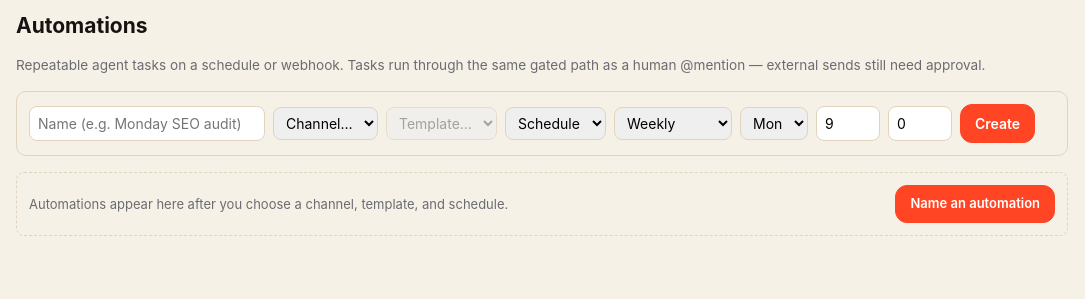
Test case: AutomationsPanel (#167 — Create button) › surfaces a server validation failure instead of swallowing it
The width and height of the screenshot is (1085, 299).
Type "Weekly audit" into the field with placeholder "Name (e.g. Monday SEO audit)".
click(147, 124); type("Weekly audit")  # box [29,106,265,142]
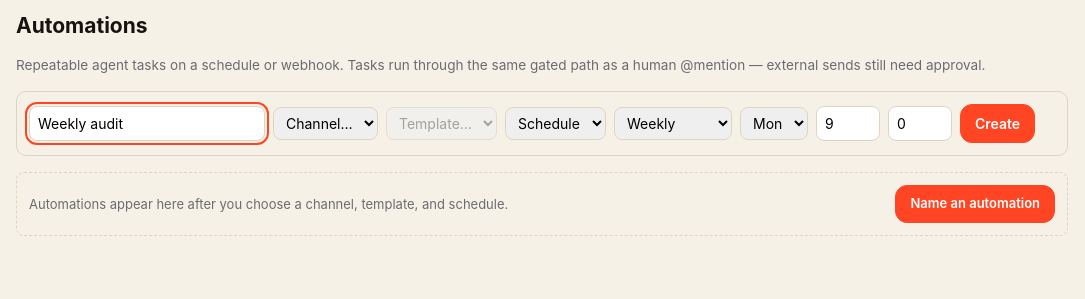
Select "#general" in the 1st dropdown at (326, 124), box [273,108,378,140]
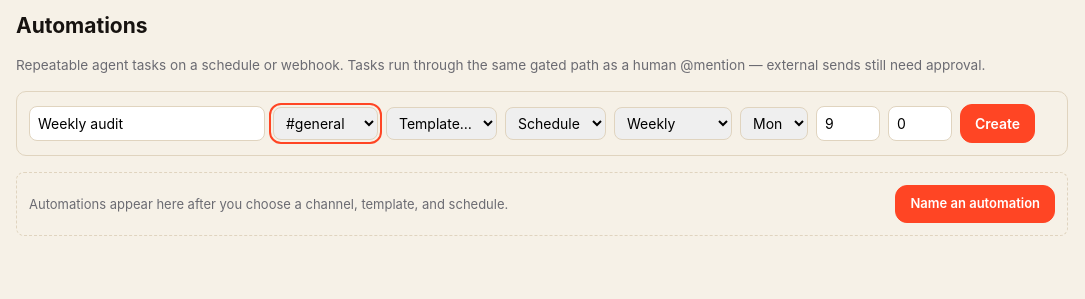
Select "SEO audit" in the 2nd dropdown at (442, 124), box [386,108,497,140]
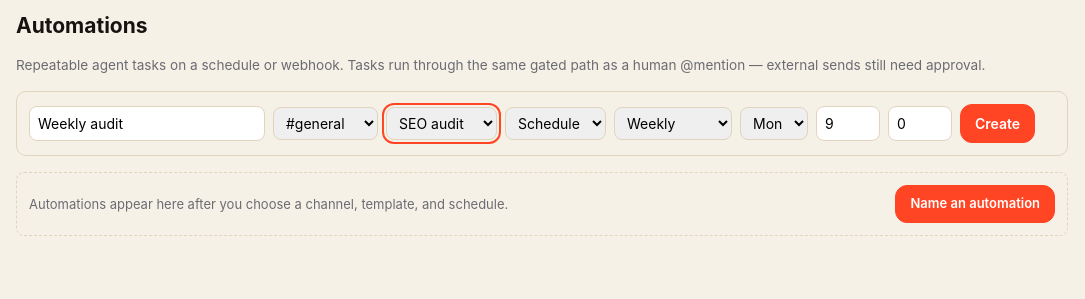
Click the button "Create".
click(998, 124)  # box [960,104,1035,144]
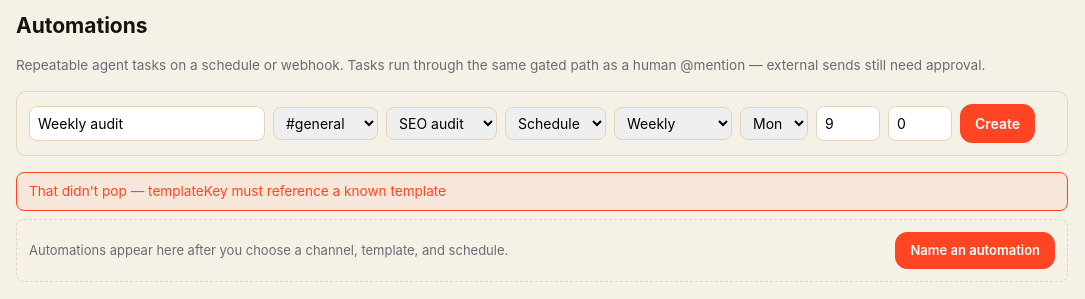
expect the message shows "must reference a known template": met, box [29,184,446,200]
